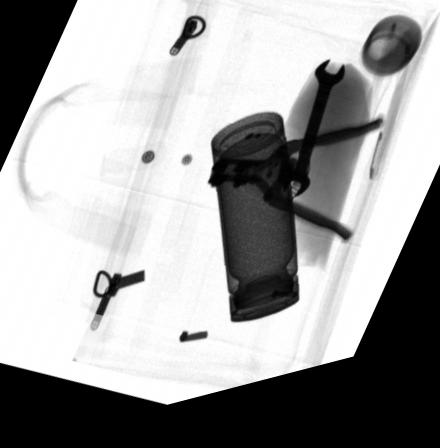Pliers: (203, 138, 385, 264)
Wrench: (274, 75, 344, 216)
